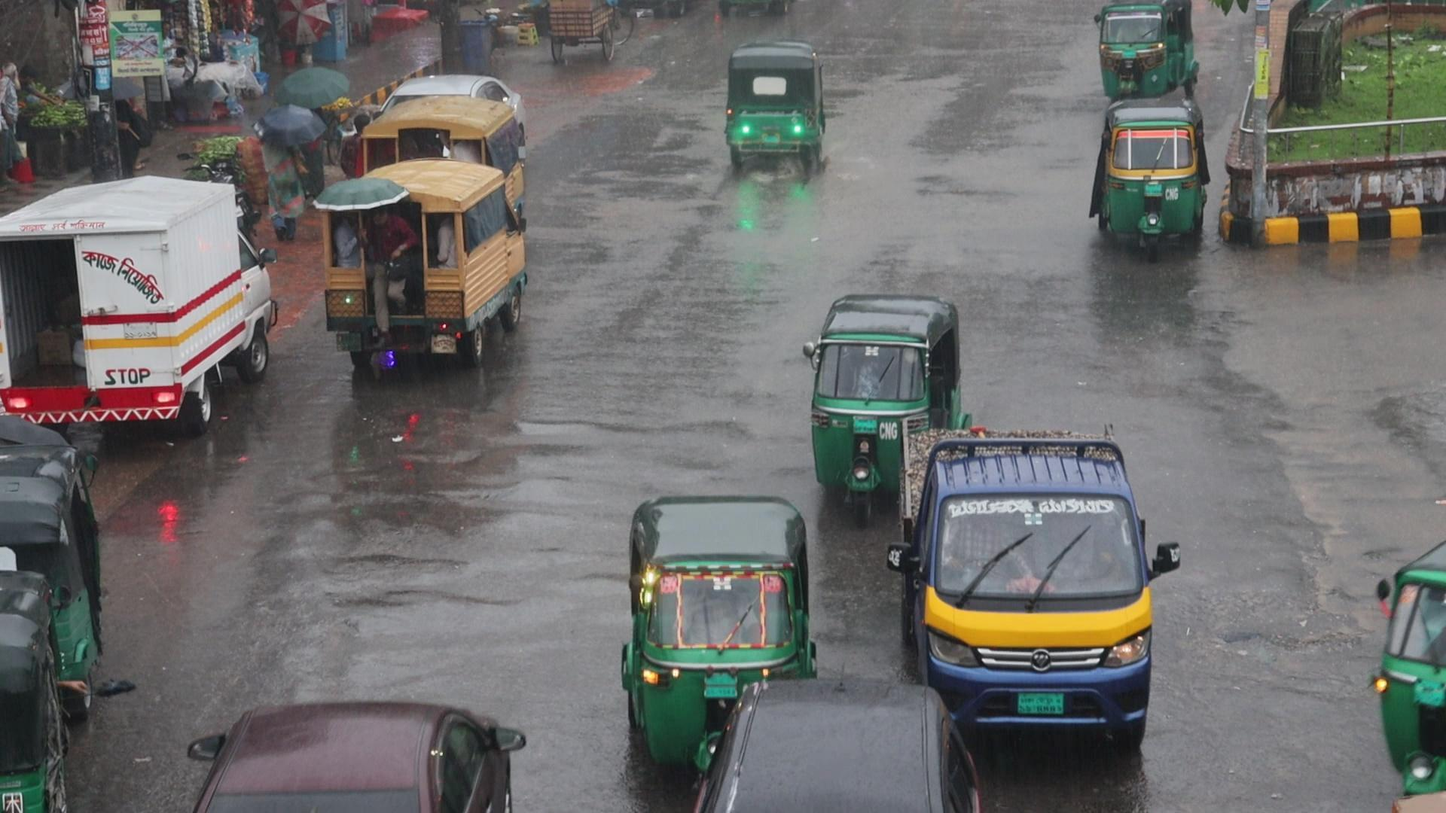Truck: (894, 416, 1156, 765), (309, 155, 522, 384)
